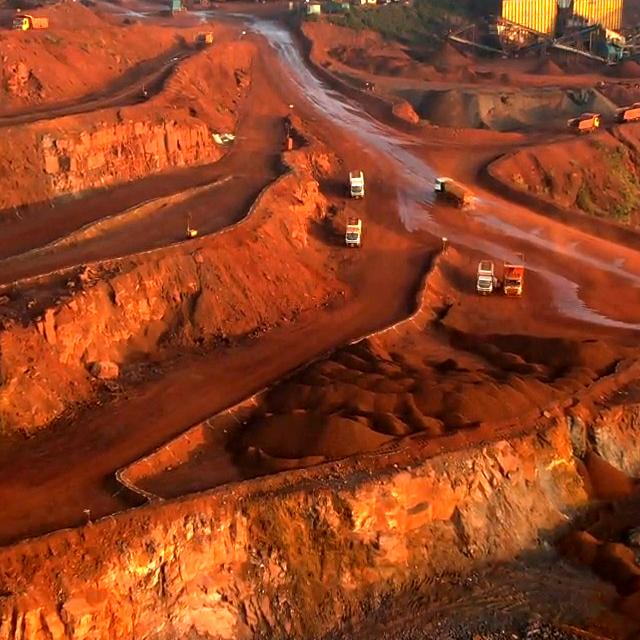Dumper truck: (576, 113, 616, 134), (12, 12, 52, 31), (616, 101, 640, 119)
car: (477, 262, 494, 296), (343, 224, 362, 245), (350, 174, 368, 195)
